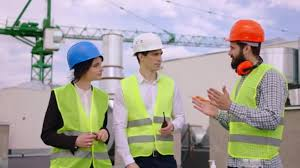casque: (29, 23, 283, 113)
